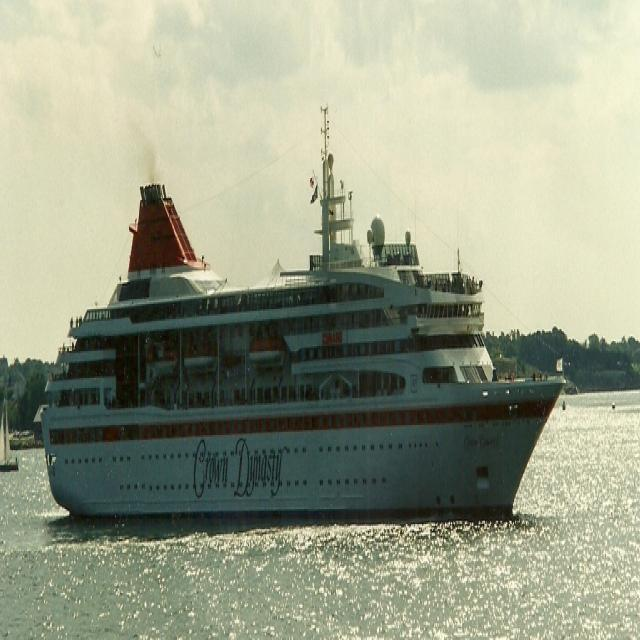Boat: (40, 107, 554, 489), (0, 398, 21, 486)
